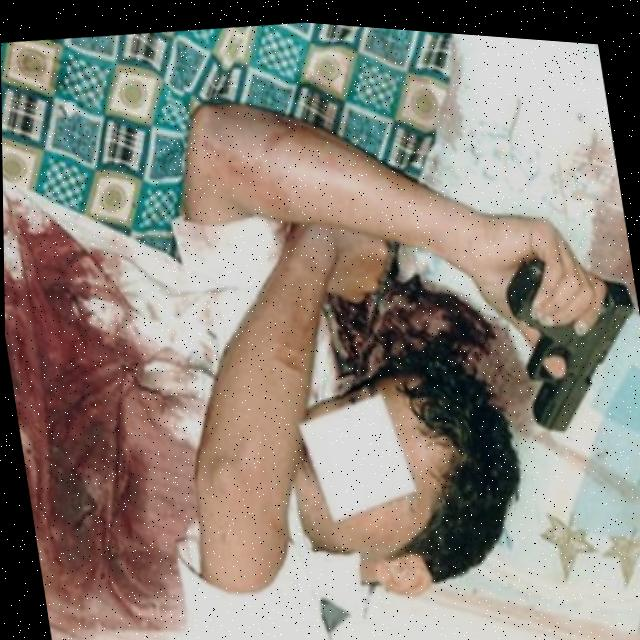pistol: (496, 231, 640, 437)
